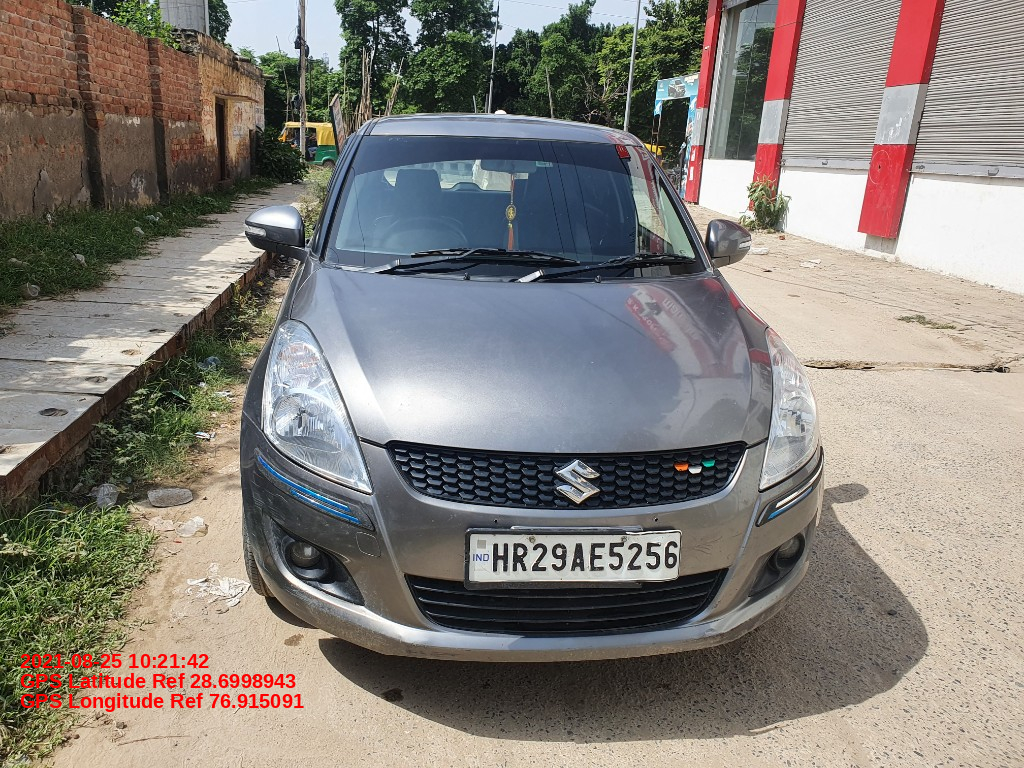Scratched: (240, 484, 290, 586), (675, 609, 763, 650), (393, 634, 470, 666)
